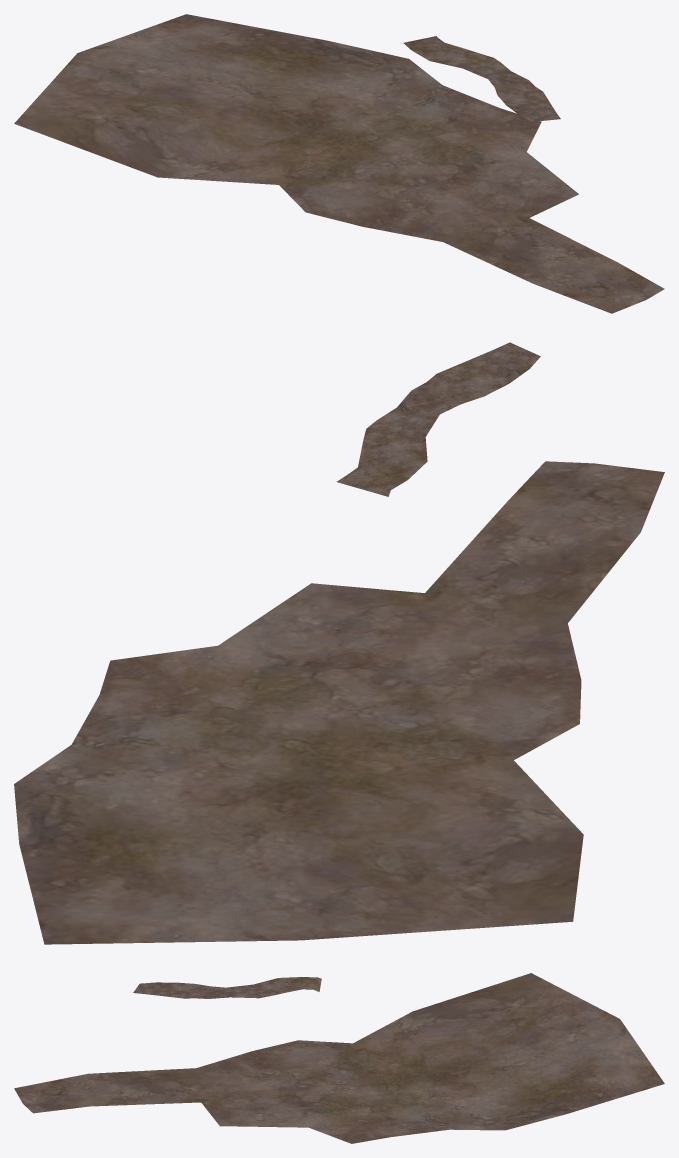
File: dcfx4_lumian.FBX
3 renders of one model, top to bottom at view 1: azimuth 30°, elevation 25°; view 2: azimuth 150°, elevation 25°; view 3: azimuth 270°, elevation 25°, orthographic. The views are drawn at different scales.
Parts seen in each view (by area): view 1: dcfx4_lumian; view 2: dcfx4_lumian; view 3: dcfx4_lumian.
Boxes of the visible parts, <box> form: dcfx4_lumian: <box>14,14,664,313</box>; dcfx4_lumian: <box>14,342,664,944</box>; dcfx4_lumian: <box>14,973,664,1143</box>.
Size of the model in its own units: 7683 by 2369 by 13303.
